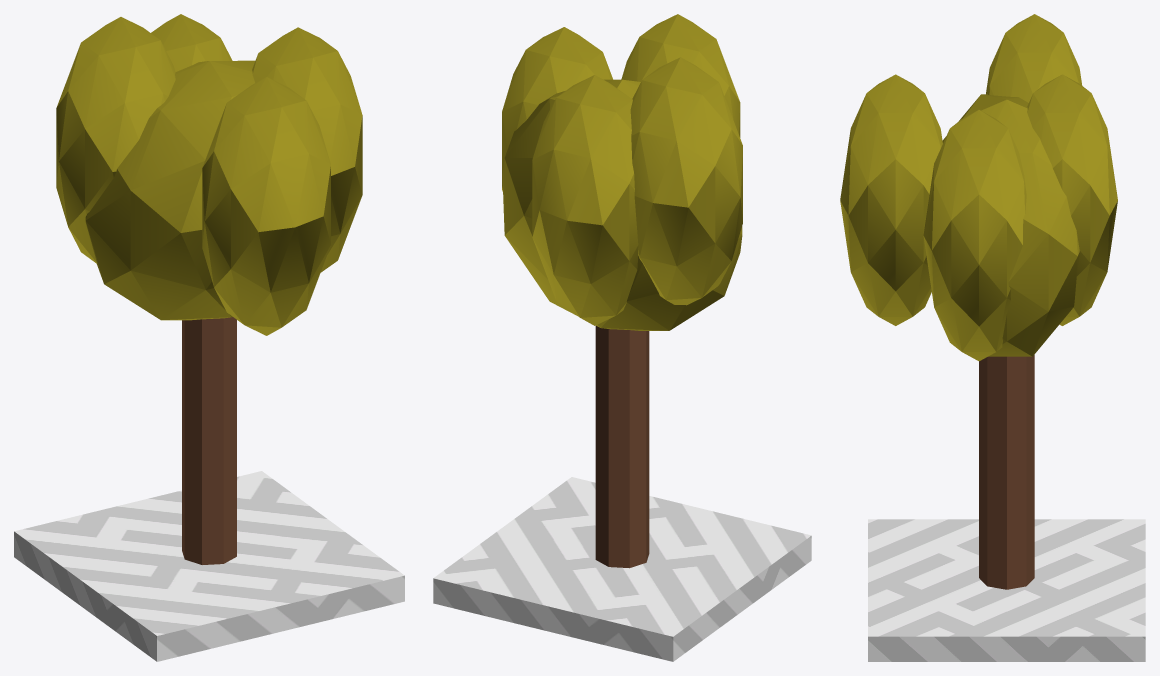
Rendered from Tree2.obj.
3 renders of one model, left to right at view 1: azimuth 30°, elevation 25°; view 2: azimuth 150°, elevation 25°; view 3: azimuth 270°, elevation 25°, orthographic. The views are drawn at different scales.
Bounding box in the file's own units: 1.1 × 2.2 × 1.1.
3 materials, 1 textured.
